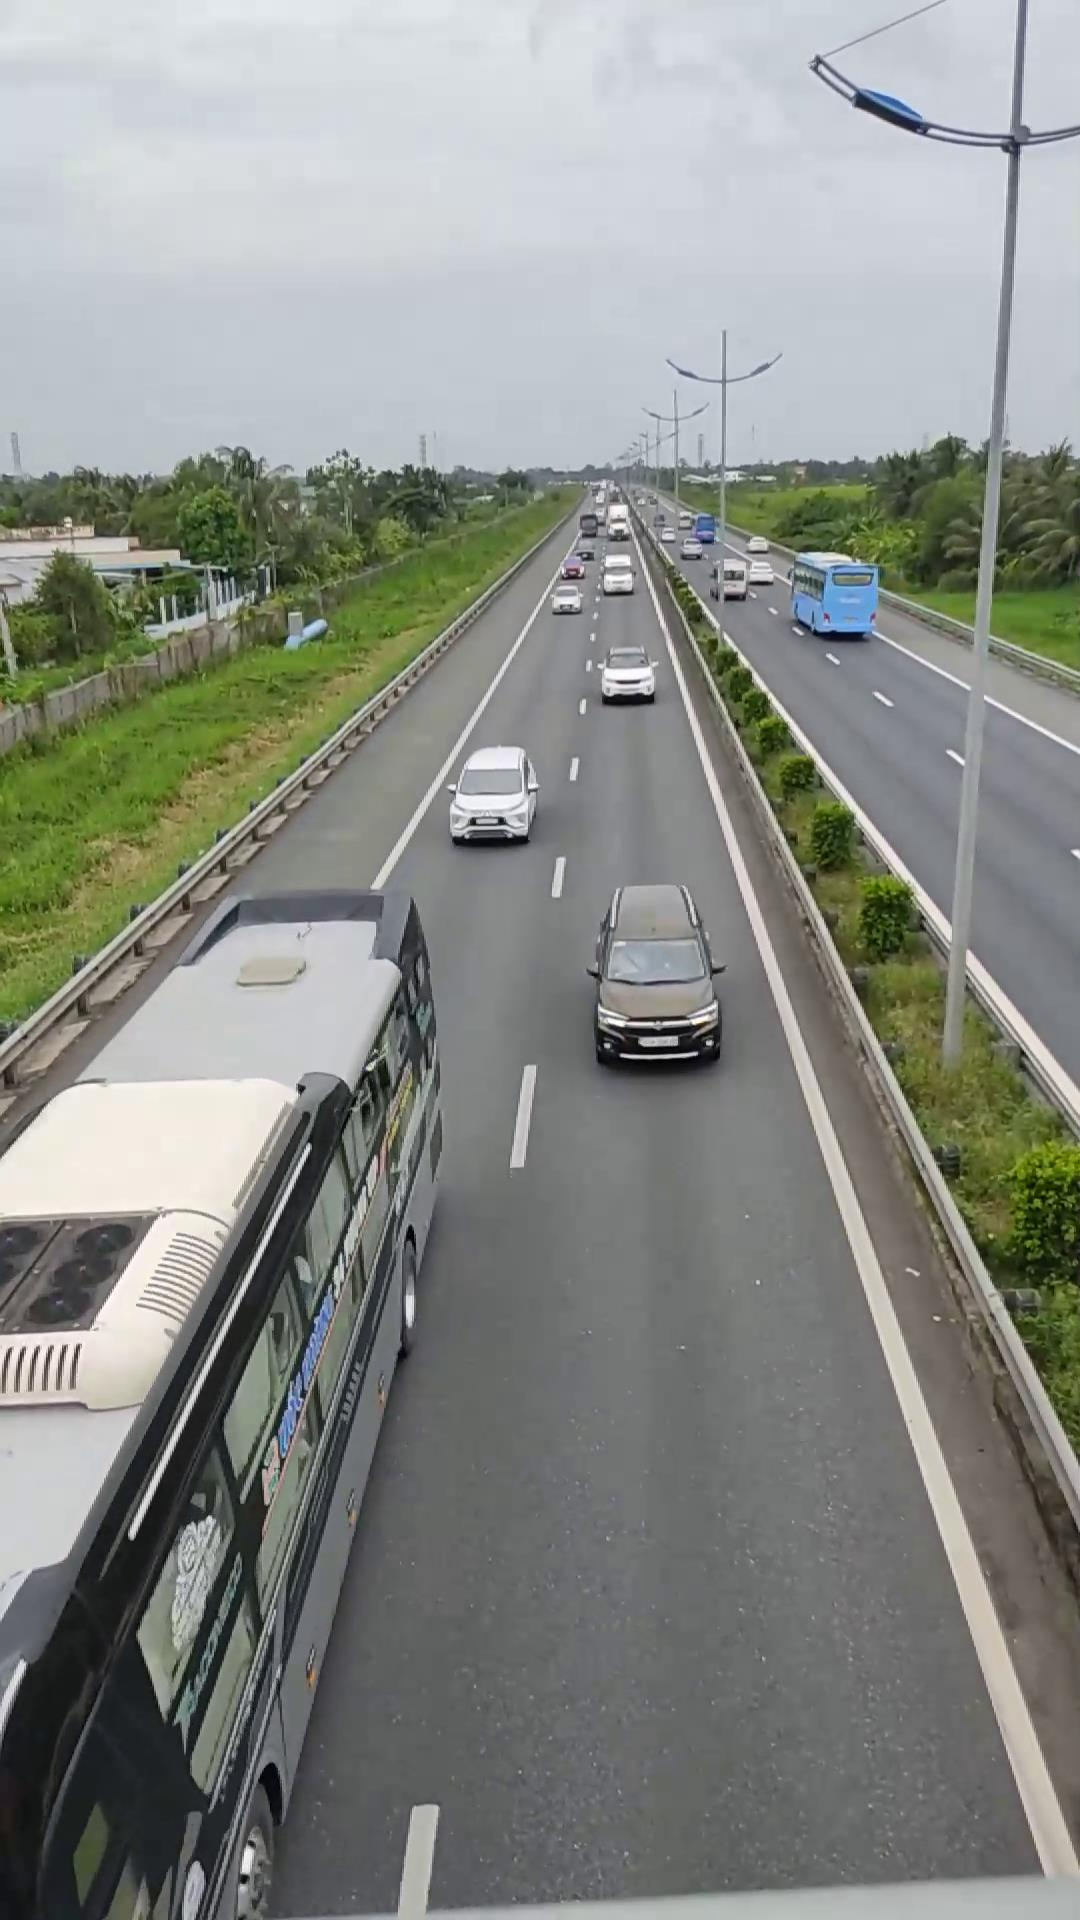bus: (0, 885, 450, 1911)
car: (587, 882, 724, 1063), (446, 742, 541, 843)
